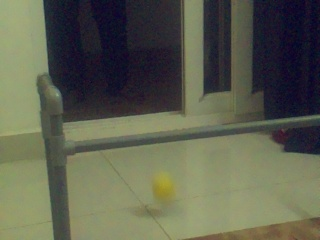ball: (152, 172, 175, 202)
